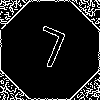L: (25, 25, 69, 78)
